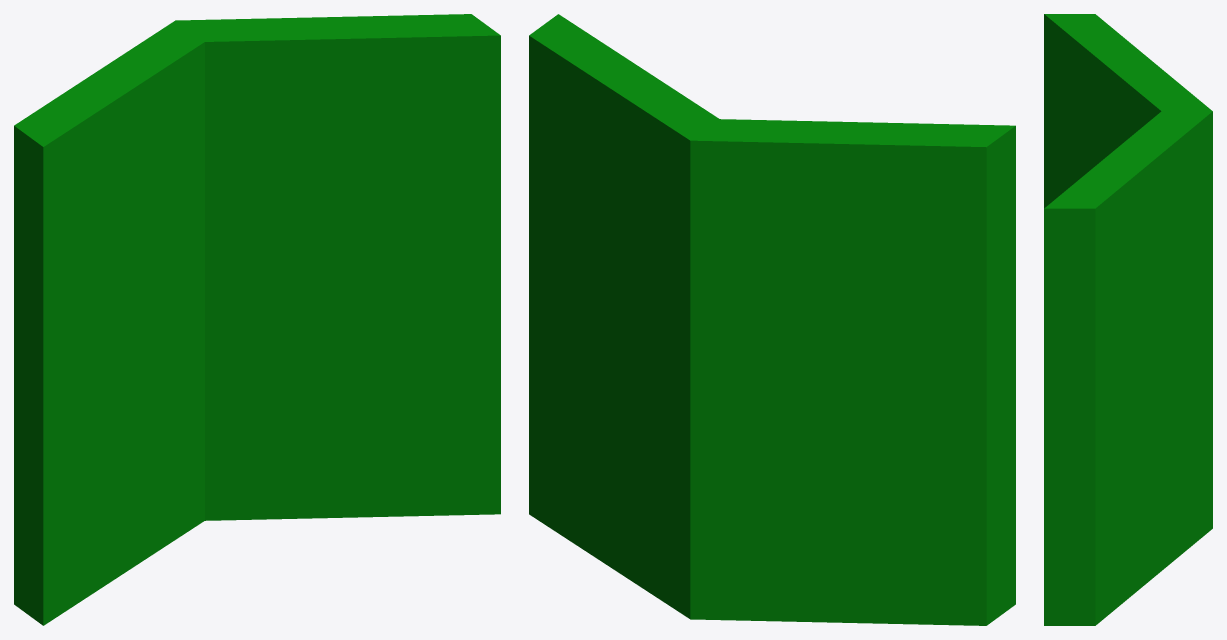
The model's file is PalmLeafPart.fbx.
The picture shows the model from 3 angles, left to right: view 1: azimuth 30°, elevation 25°; view 2: azimuth 150°, elevation 25°; view 3: azimuth 270°, elevation 25°; orthographic projection. The views are drawn at different scales.
Parts seen in each view (by area): view 1: PalmLeafPart; view 2: PalmLeafPart; view 3: PalmLeafPart.
Boxes of the visible parts, x1,y1,x2,y2 form: PalmLeafPart: (14, 14, 500, 625); PalmLeafPart: (529, 14, 1015, 625); PalmLeafPart: (1044, 14, 1212, 625).
Size of the model in its own units: 200 by 200 by 73.29.
